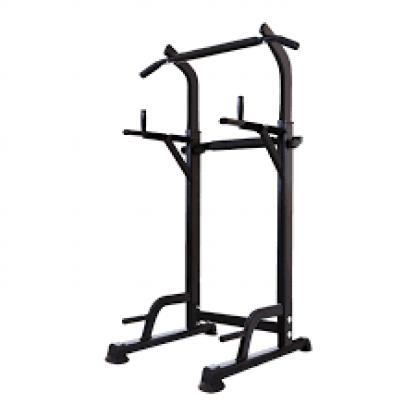chinning dipping: (105, 22, 313, 394)
